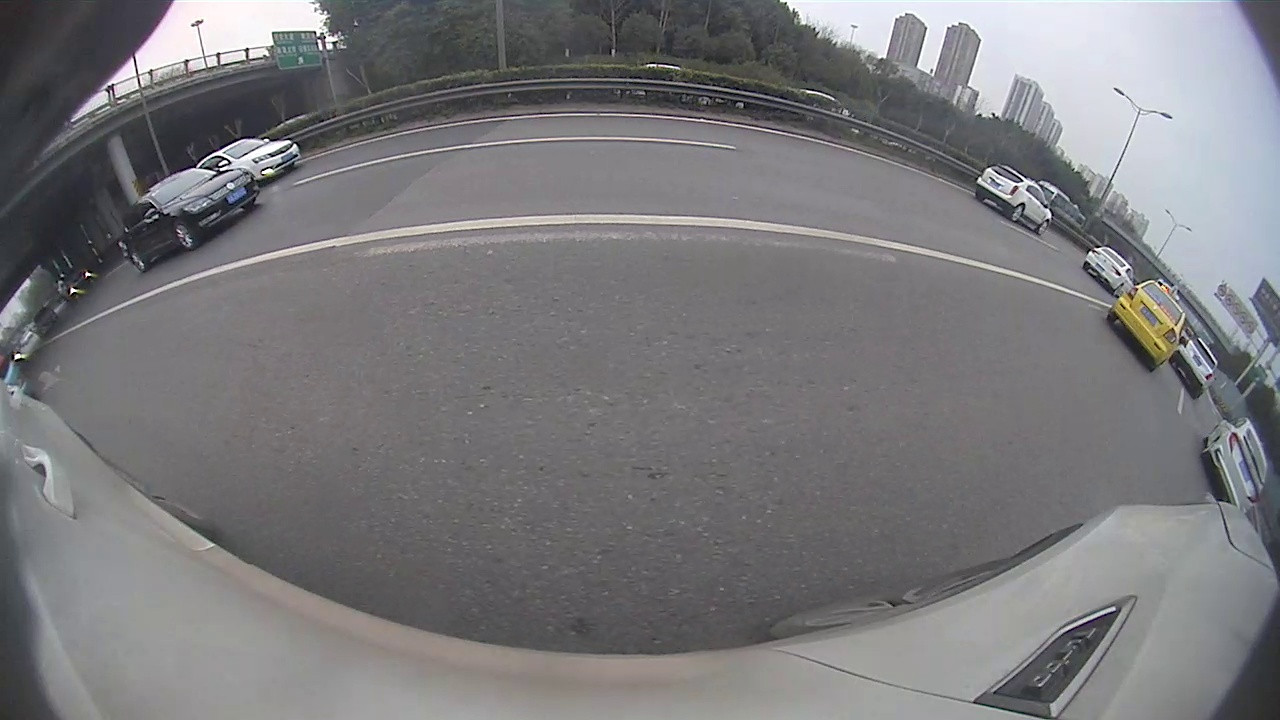car: (118, 168, 254, 272), (1108, 279, 1184, 371), (1205, 417, 1268, 517), (976, 164, 1051, 235), (199, 137, 300, 186), (1084, 247, 1134, 298)
front: (171, 219, 197, 254), (1037, 219, 1050, 236)
rear: (127, 249, 146, 275), (1011, 204, 1026, 223)
